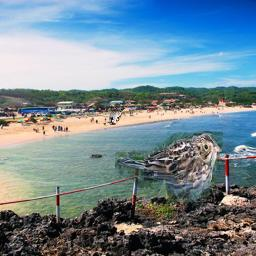Sparrow: (115, 132, 223, 203), (110, 107, 125, 125)
